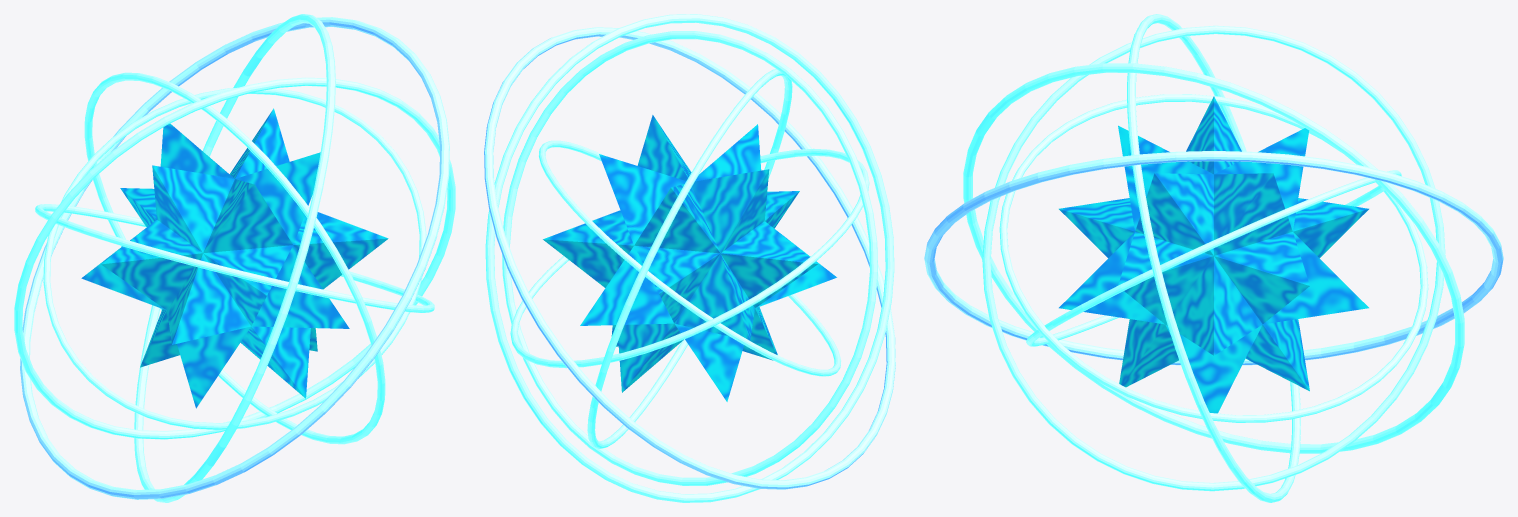
The model's file is asset.glb.
3 views of the same model, side by side, from view 1: azimuth 30°, elevation 25°; view 2: azimuth 150°, elevation 25°; view 3: azimuth 270°, elevation 25° (orthographic). The views are drawn at different scales.
Parts seen in each view (by area): view 1: Icosphere, Torus.005, Torus.003, Torus.004, Torus, Torus.002, Torus.001; view 2: Icosphere, Torus.004, Torus.005, Torus.003, Torus.002, Torus.001, Torus; view 3: Icosphere, Torus.004, Torus.002, Torus.005, Torus.001, Torus.003, Torus.
Part boxes in pixels (x1=…): Icosphere: x1=81, y1=108, x2=388, y2=408; Torus.005: x1=20, y1=17, x2=449, y2=499; Torus.003: x1=14, y1=77, x2=455, y2=439; Torus.004: x1=134, y1=14, x2=335, y2=502; Torus: x1=43, y1=87, x2=426, y2=429; Torus.002: x1=84, y1=72, x2=385, y2=444; Torus.001: x1=35, y1=204, x2=434, y2=312; Icosphere: x1=543, y1=115, x2=836, y2=401; Torus.004: x1=485, y1=14, x2=894, y2=502; Torus.005: x1=484, y1=27, x2=895, y2=489; Torus.003: x1=502, y1=31, x2=877, y2=485; Torus.002: x1=587, y1=69, x2=792, y2=448; Torus.001: x1=510, y1=148, x2=869, y2=368; Torus: x1=539, y1=140, x2=840, y2=376; Icosphere: x1=1059, y1=96, x2=1368, y2=413; Torus.004: x1=963, y1=63, x2=1464, y2=453; Torus.002: x1=982, y1=25, x2=1445, y2=491; Torus.005: x1=924, y1=151, x2=1503, y2=365; Torus.001: x1=999, y1=94, x2=1428, y2=422; Torus.003: x1=1127, y1=14, x2=1300, y2=502; Torus: x1=1026, y1=170, x2=1401, y2=346.
Bounding box in the file's own units: 5.39 × 5.42 × 6.25.
Materials: 7 (1 with a texture image).
